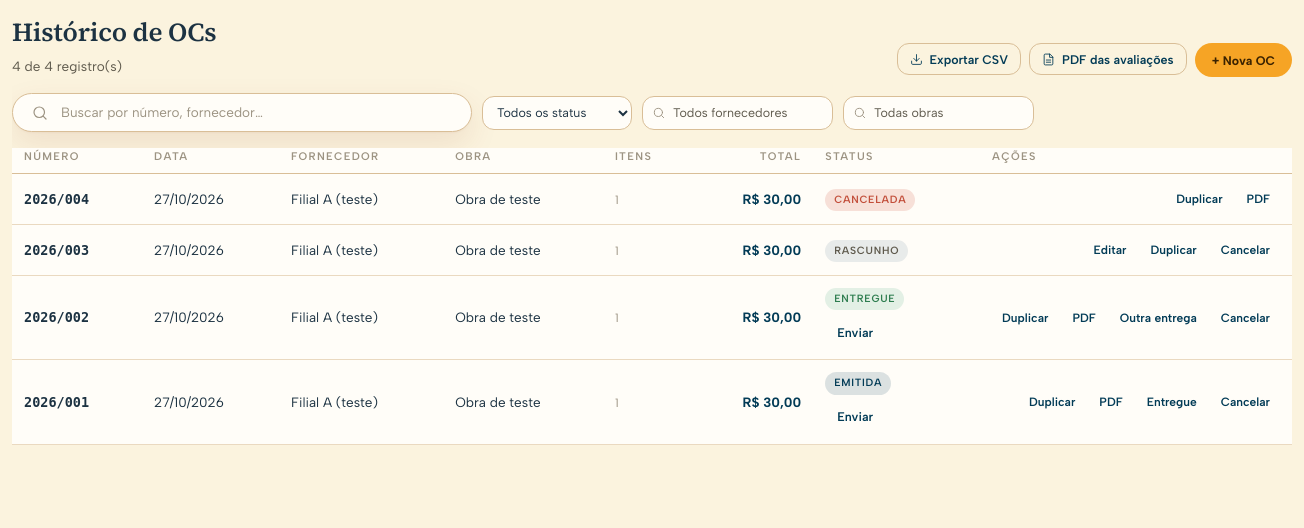
Test: D604 §3.5 — o PDF das avaliações, pelo Histórico › a coluna "Registro do fornecedor" vem da cobertura da mesma máscara (CTO-D845 §2, escolha 3)
Click the button "PDF das avaliações" at (1108, 59), box [1029, 43, 1187, 75]
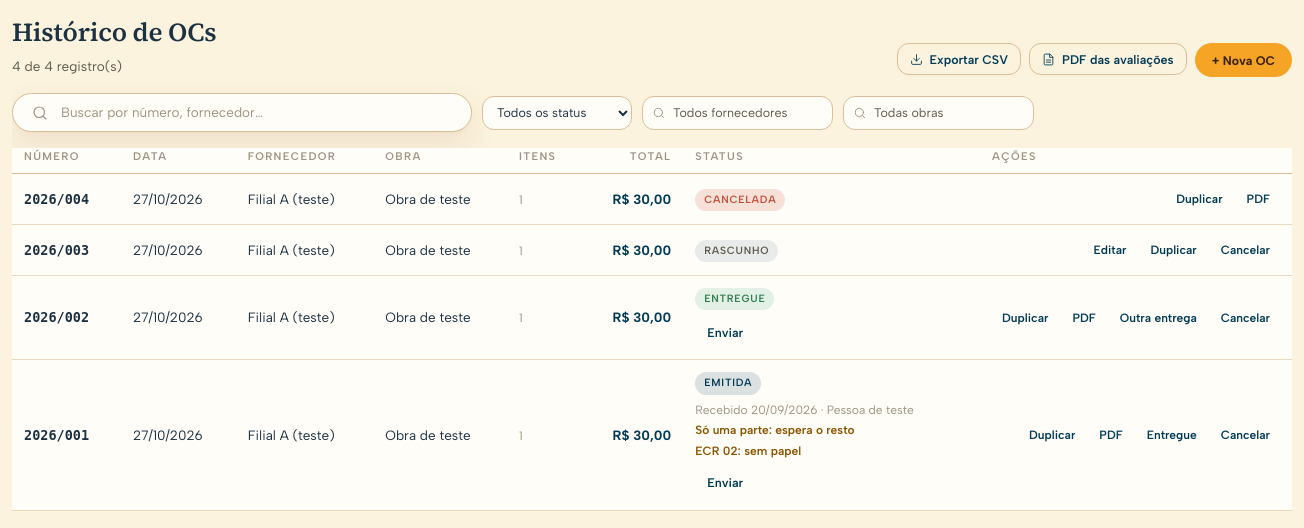
Now the text "ECR 02: sem papel" is shown, box [695, 444, 801, 458]
